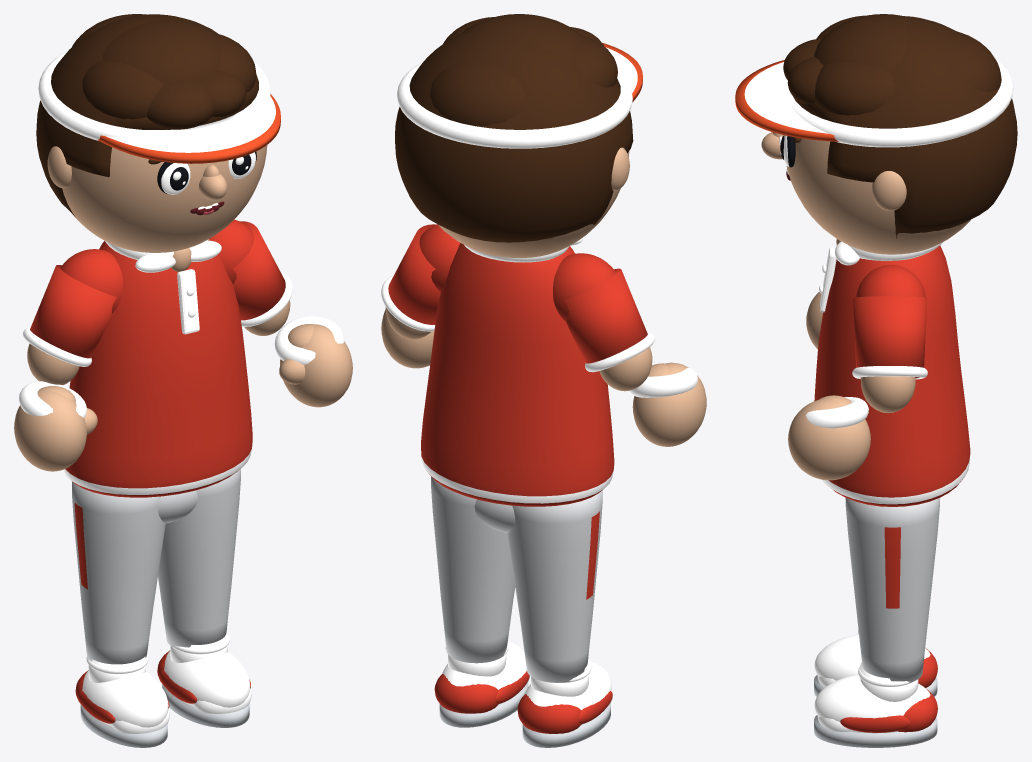
File: mii_player.glb
3 views of the same model, side by side, from view 1: azimuth 30°, elevation 25°; view 2: azimuth 150°, elevation 25°; view 3: azimuth 270°, elevation 25° (orthographic).
Parts seen in each view (by area): view 1: Torso, Head, Foot_L, Foot_R, Hand_L, Hand_R; view 2: Torso, Head, Foot_L, Foot_R, Hand_L, Hand_R; view 3: Head, Torso, Foot_R, Hand_R, Foot_L, Hand_L.
Part boxes in pixels (x1=…): Torso: x1=23, y1=219, x2=292, y2=664; Head: x1=36, y1=14, x2=280, y2=252; Foot_L: x1=75, y1=655, x2=169, y2=747; Foot_R: x1=157, y1=630, x2=251, y2=727; Hand_L: x1=14, y1=381, x2=97, y2=471; Hand_R: x1=274, y1=316, x2=352, y2=407; Torso: x1=381, y1=224, x2=654, y2=682; Head: x1=395, y1=14, x2=642, y2=257; Foot_L: x1=517, y1=659, x2=612, y2=747; Foot_R: x1=434, y1=641, x2=529, y2=727; Hand_L: x1=629, y1=362, x2=706, y2=446; Hand_R: x1=381, y1=309, x2=434, y2=368; Head: x1=735, y1=14, x2=1017, y2=254; Torso: x1=814, y1=239, x2=970, y2=682; Foot_R: x1=814, y1=662, x2=937, y2=747; Hand_R: x1=788, y1=395, x2=870, y2=480; Foot_L: x1=814, y1=630, x2=937, y2=696; Hand_L: x1=806, y1=292, x2=822, y2=349.
Bounding box in the file's own units: 0.8149 × 1.68 × 0.6238.
